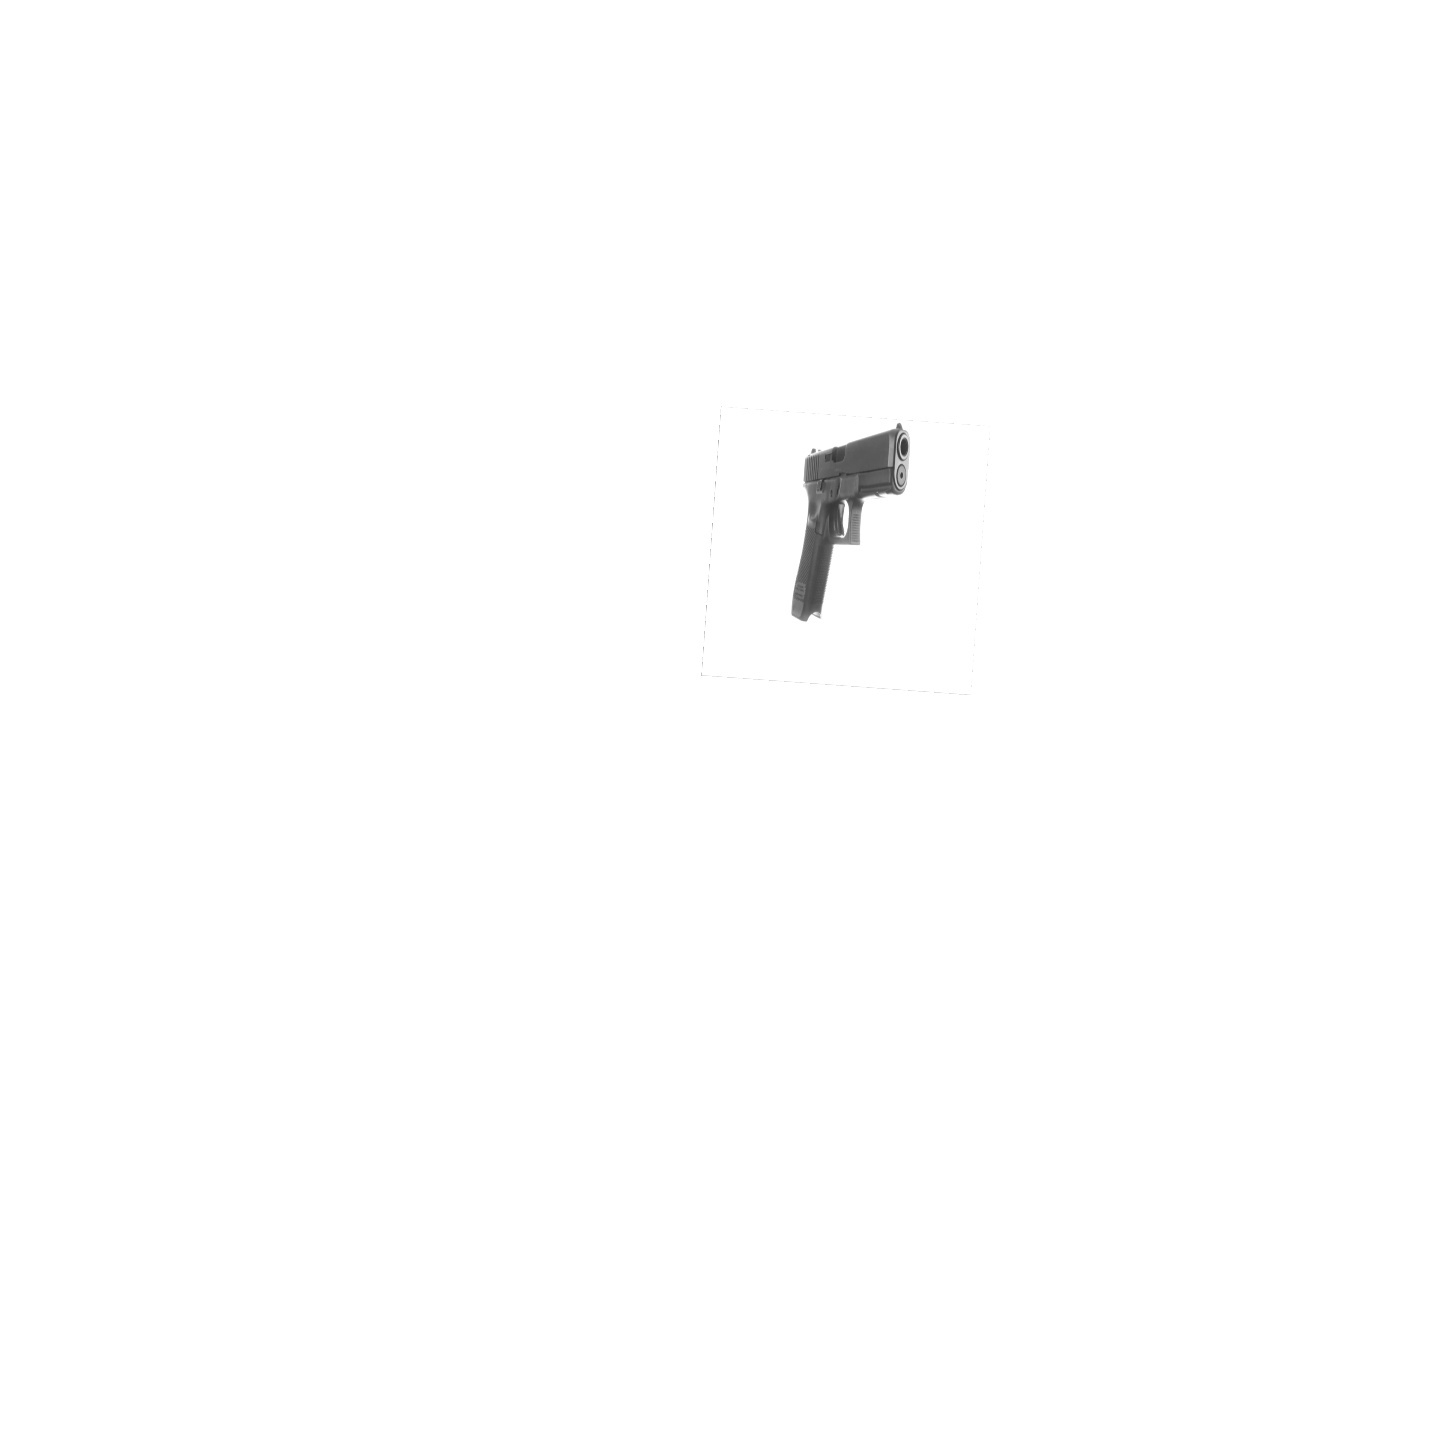gun: (780, 419, 917, 627)
